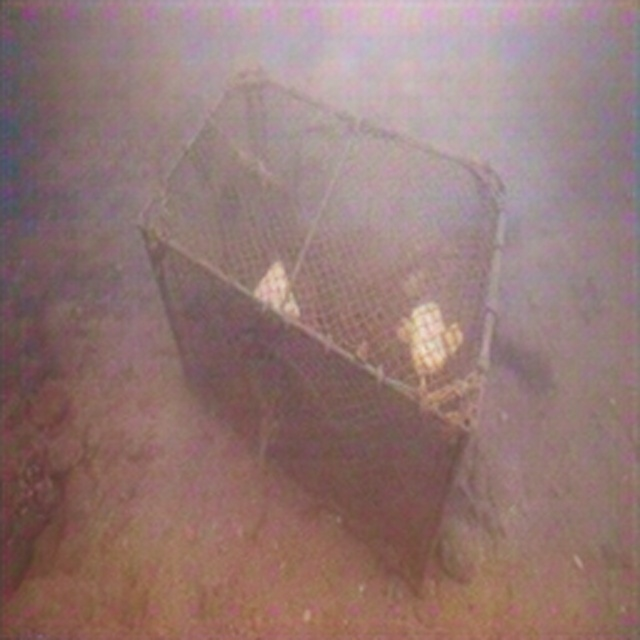mine: (132, 62, 510, 600)
